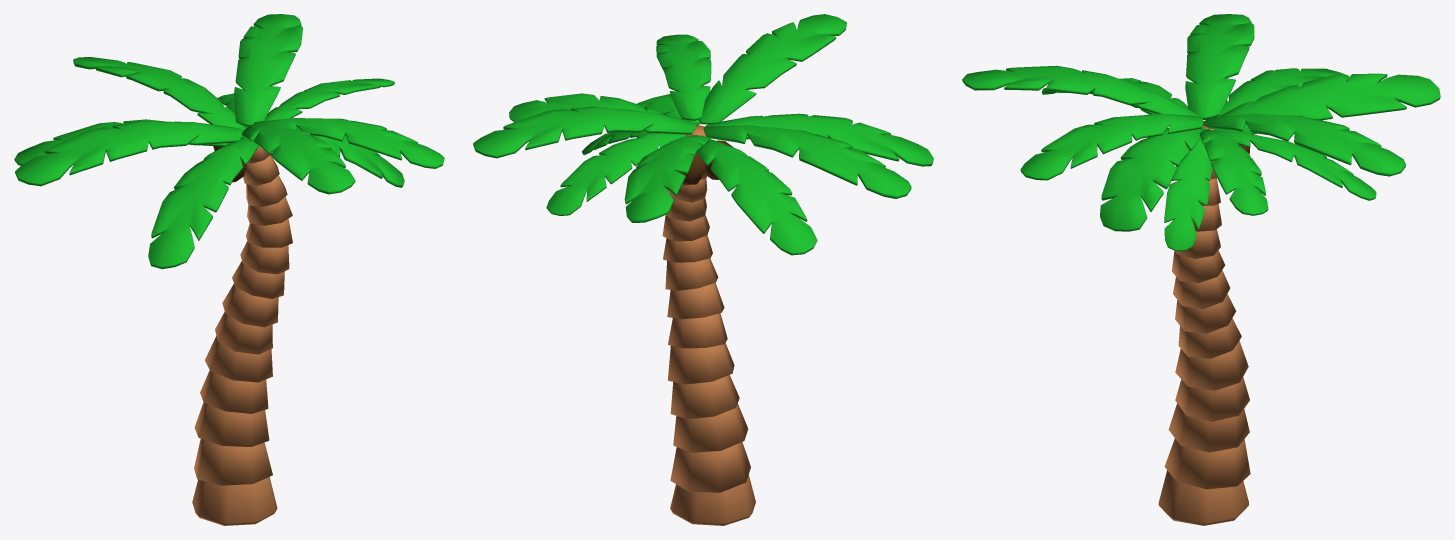
The model's file is PalmTree_LowPoly.fbx.
The picture shows the model from 3 angles, left to right: view 1: azimuth 30°, elevation 25°; view 2: azimuth 150°, elevation 25°; view 3: azimuth 270°, elevation 25°; orthographic projection. The views are drawn at different scales.
Parts seen in each view (by area): view 1: Plane.004, Plane.005, Plane.001, Plane.006, Plane.007, Plane.002, Cube, Cube.001, Cube.002, Cube.003, Cube.004, Plane (+10 smaller); view 2: Plane.006, Plane.003, Plane.001, Plane.004, Plane.002, Plane.005, Plane.009, Plane.007, Cube.001, Cube, Cube.002, Cube.003 (+11 smaller); view 3: Plane.002, Plane.008, Plane.004, Plane.001, Plane.007, Plane.006, Plane.010, Plane, Cube, Cube.001, Plane.009, Cube.002 (+9 smaller).
Boxes of the visible parts, x1,y1,x2,y2 form: Plane.004: [15, 121, 243, 186]; Plane.005: [148, 137, 258, 269]; Plane.001: [234, 14, 302, 126]; Plane.006: [241, 126, 355, 194]; Plane.007: [254, 118, 444, 168]; Plane.002: [73, 57, 246, 136]; Cube: [192, 477, 277, 525]; Cube.001: [194, 439, 272, 485]; Cube.002: [194, 402, 269, 446]; Cube.003: [200, 370, 268, 413]; Cube.004: [205, 336, 272, 382]; Plane: [264, 78, 394, 120]; Plane.006: [698, 14, 846, 124]; Plane.003: [697, 139, 817, 255]; Plane.001: [473, 106, 696, 158]; Plane.004: [704, 125, 911, 198]; Plane.002: [624, 135, 710, 222]; Plane.005: [703, 113, 933, 166]; Plane.009: [546, 133, 685, 215]; Plane.007: [656, 34, 711, 120]; Cube.001: [670, 442, 750, 492]; Cube: [670, 474, 755, 525]; Cube.002: [673, 403, 748, 452]; Cube.003: [670, 375, 739, 418]; Plane.002: [1204, 73, 1440, 134]; Plane.008: [1100, 128, 1200, 231]; Plane.004: [1185, 14, 1254, 119]; Plane.001: [1205, 113, 1405, 176]; Plane.007: [1020, 114, 1203, 180]; Plane.006: [962, 65, 1200, 116]; Plane.010: [1164, 128, 1212, 251]; Plane: [1199, 129, 1268, 215]; Cube: [1158, 470, 1248, 525]; Cube.001: [1164, 438, 1250, 489]; Plane.009: [1212, 130, 1376, 200]; Cube.002: [1168, 403, 1249, 452].
Size of the model in its own units: 1040 by 1072 by 1074.
